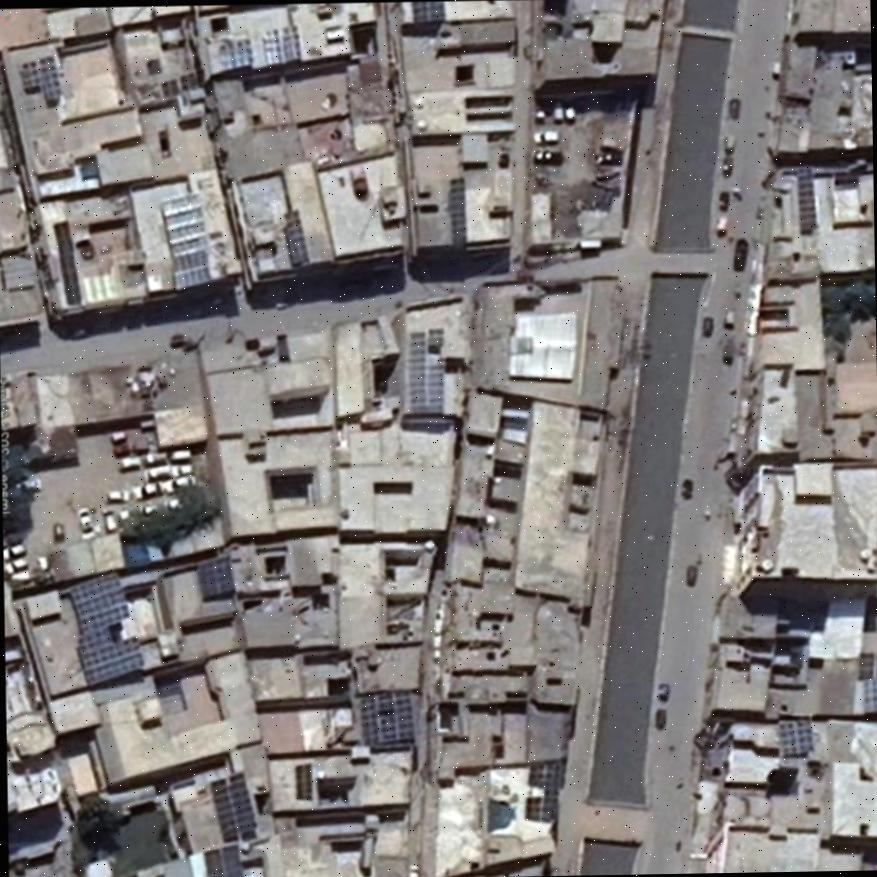Solarpanel: (58, 571, 143, 685), (160, 193, 210, 288), (359, 686, 414, 746), (210, 773, 253, 838), (410, 328, 442, 413), (18, 53, 63, 104), (53, 219, 80, 303), (262, 24, 300, 65), (198, 554, 233, 597), (203, 843, 242, 877), (285, 208, 309, 262), (781, 717, 814, 754), (449, 177, 465, 246), (798, 167, 814, 227), (542, 758, 557, 816), (222, 39, 251, 69), (411, 1, 444, 23), (859, 652, 877, 680), (296, 764, 310, 795)
